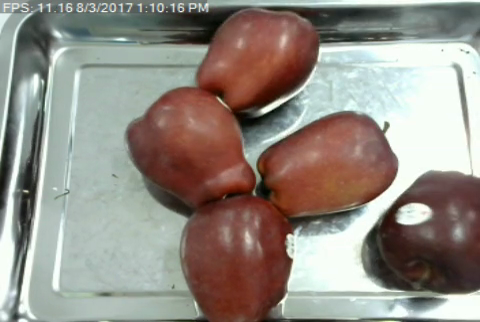Apple: (255, 107, 403, 217), (123, 84, 254, 207), (176, 190, 296, 322), (194, 6, 322, 114), (372, 169, 480, 293)
